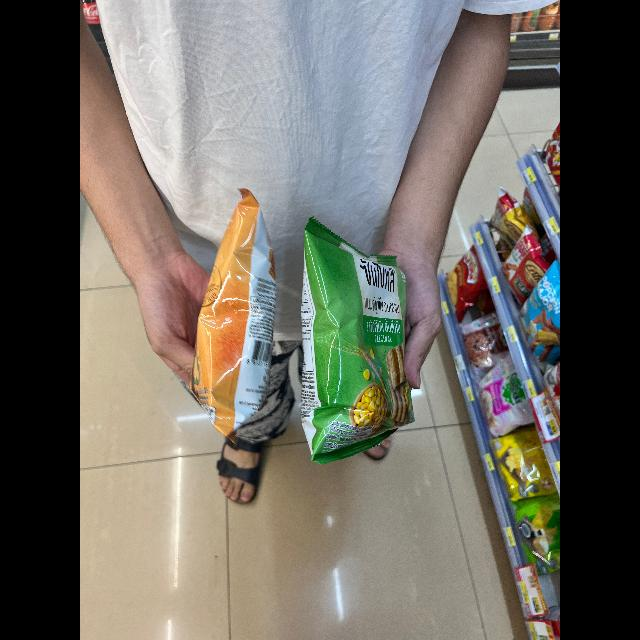snack_bag: (282, 213, 428, 471), (192, 180, 280, 440)
